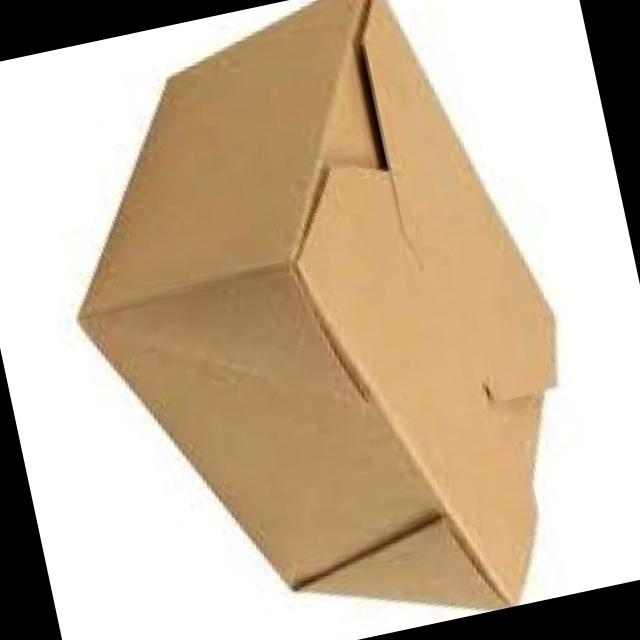cardboard paper: (81, 0, 557, 608)
